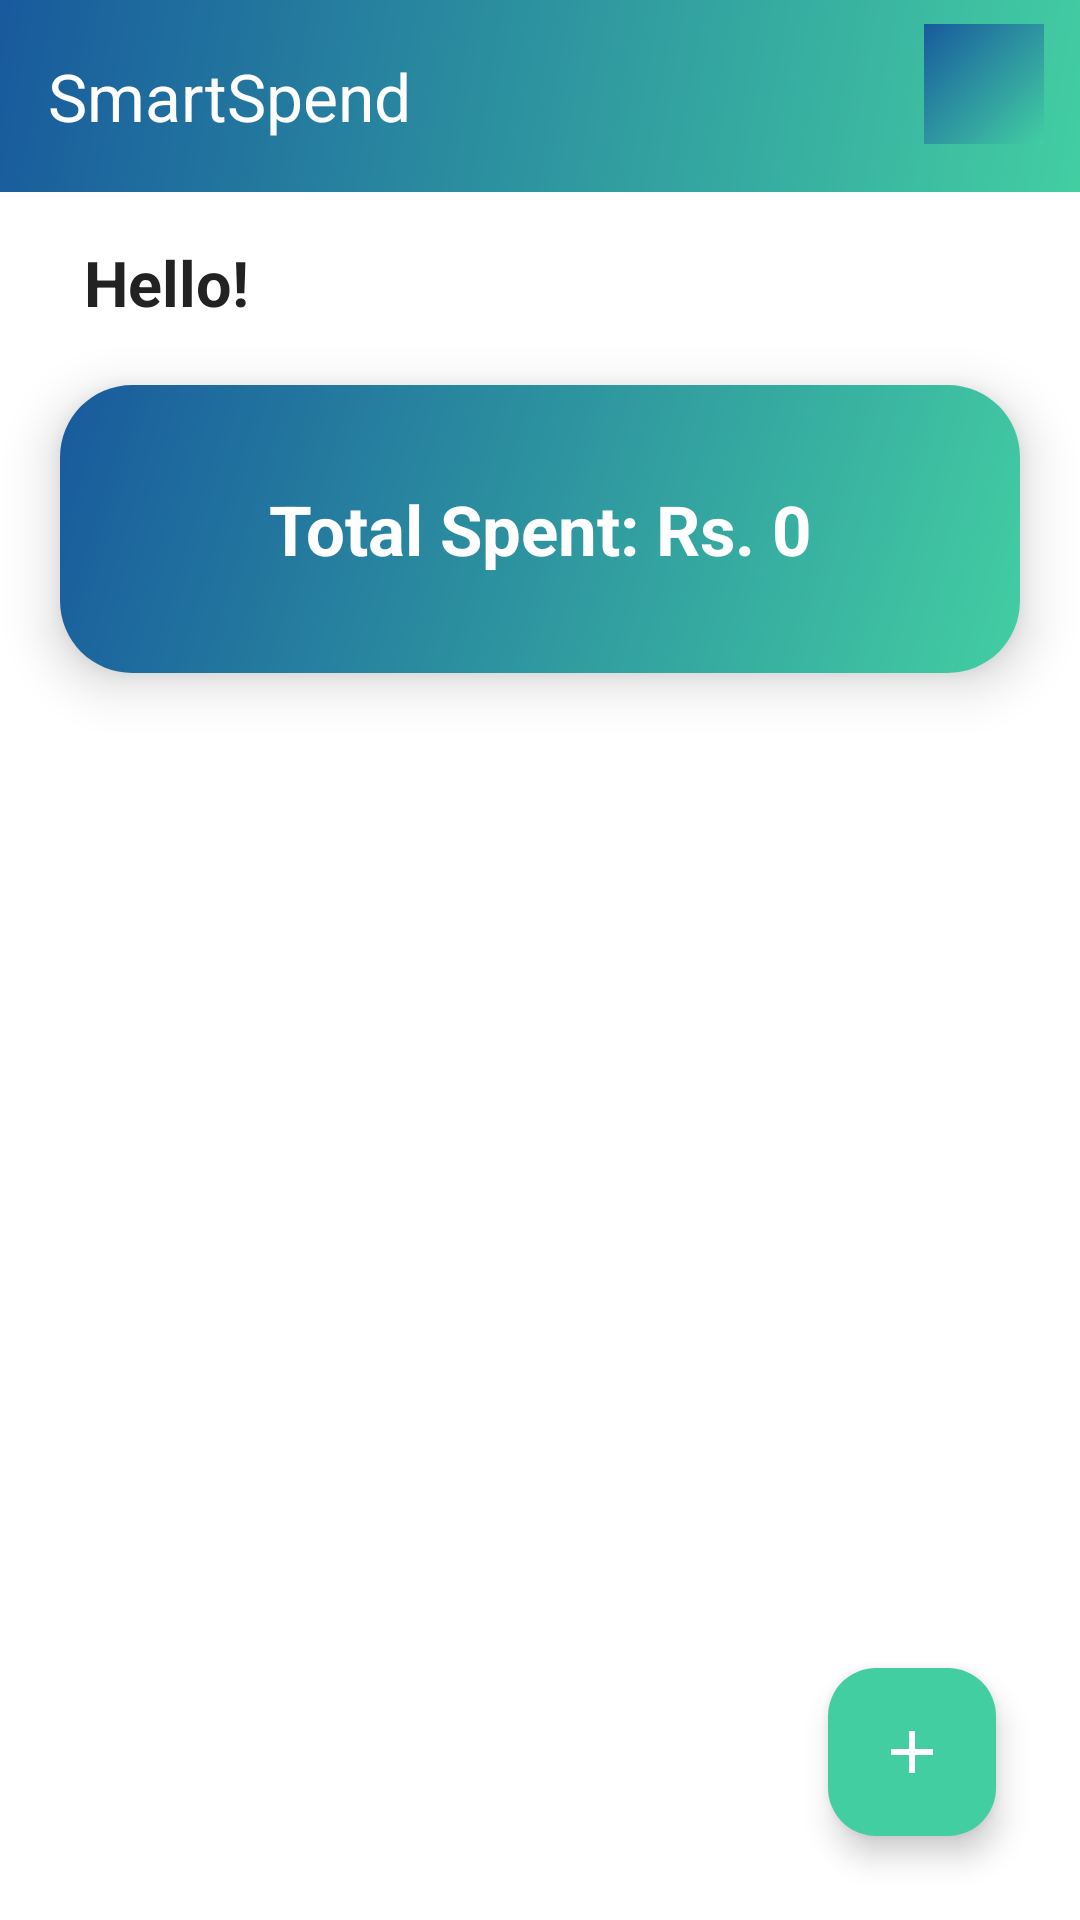

Screen size 1080px x 1920px. Icon name, then its center in pixels as (x,y):
add: (912,1752)
